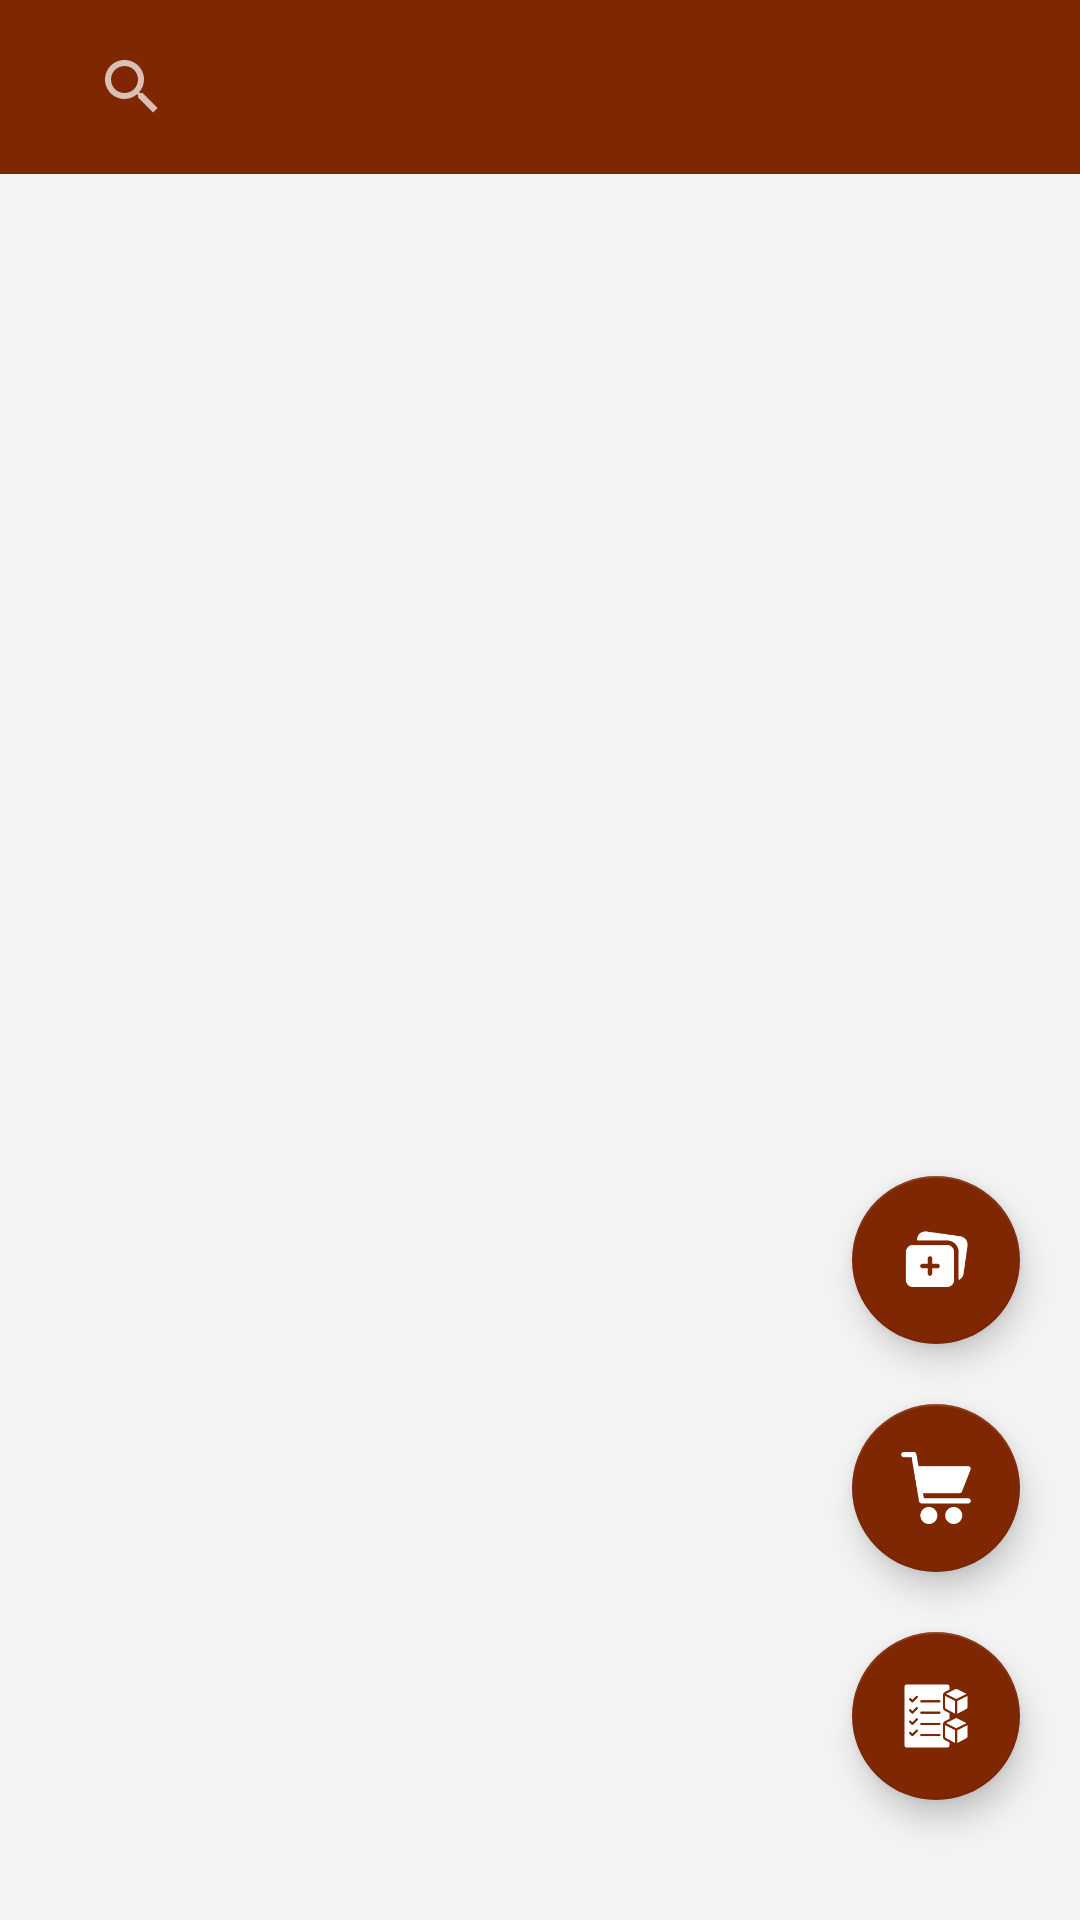

Where to tap for icons on this 1080 x 1920 app screen, as (x=x, y=y):
agregar producto: (x=936, y=1260)
cof carrito: (x=936, y=1488)
inventario: (x=936, y=1716)
